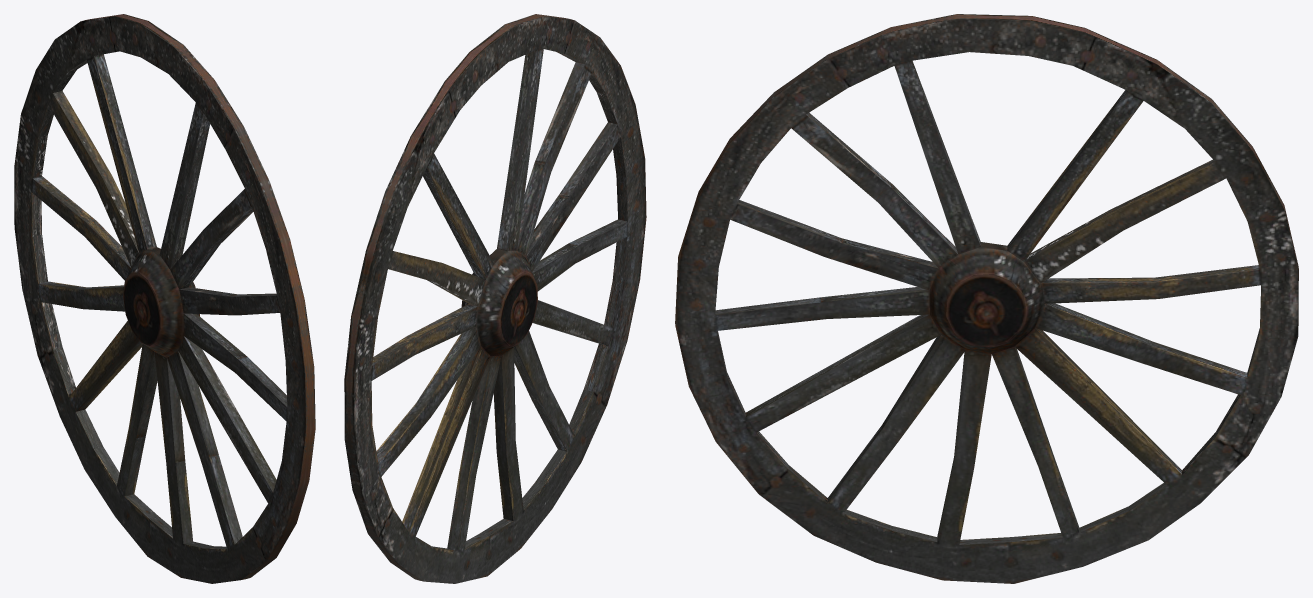
File: Wheel_LOD02.fbx
3 renders of one model, left to right at view 1: azimuth 30°, elevation 25°; view 2: azimuth 150°, elevation 25°; view 3: azimuth 270°, elevation 25°, orthographic. The views are drawn at different scales.
Parts seen in each view (by area): view 1: Mesh Object; view 2: Mesh Object; view 3: Mesh Object.
Part boxes in pixels (left/top/right/bottom): Mesh Object: left=14, top=14, right=315, bottom=583; Mesh Object: left=344, top=14, right=646, bottom=583; Mesh Object: left=675, top=14, right=1298, bottom=583.
Size of the model in its own units: 0.077 by 0.9921 by 0.9921.
